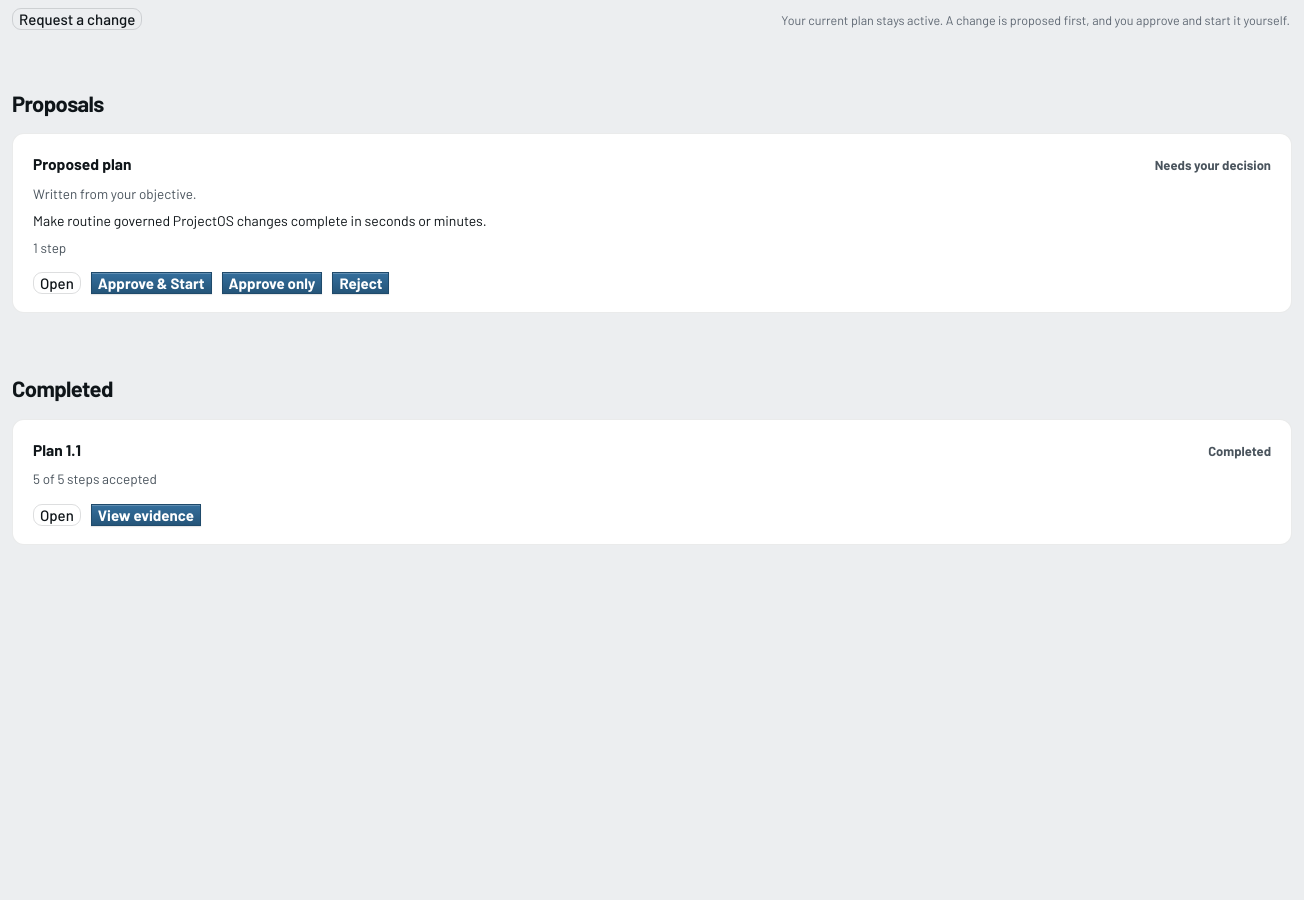
Test: Approve & Start orchestrates the existing verbs, in order, and stops at a refusal › the confirmation says exactly what pressing it does
The width and height of the screenshot is (1304, 900).
Click the button "Approve & Start" at [151, 284], box [91,272,212,294]
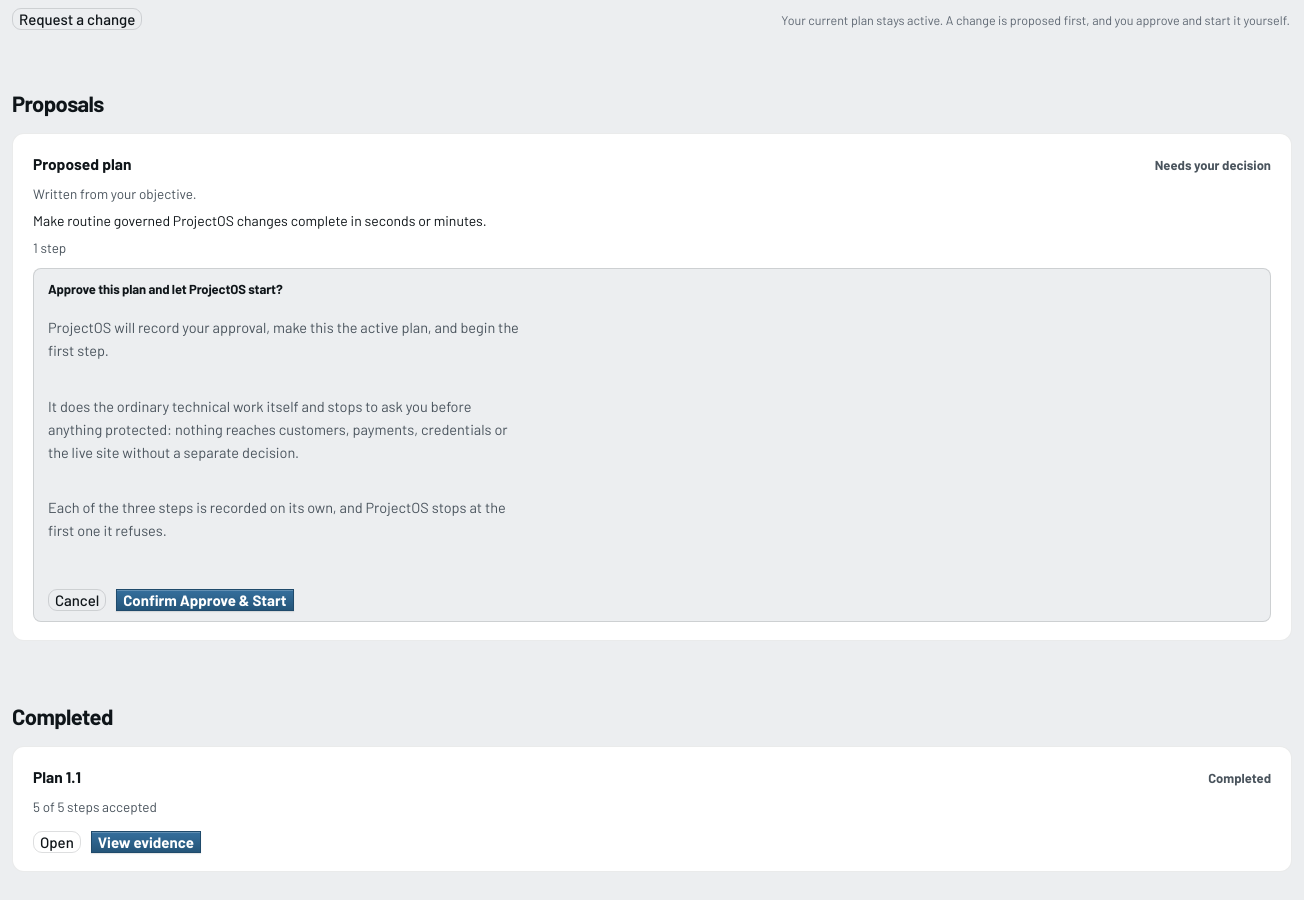
Expected: the text "Approve this plan and let ProjectOS start?" is shown, [48,282,282,298]
Expected: the text "record your approval, make this the active plan, and begin the first step" is shown, [48,318,519,360]
Expected: the text "stops to ask you before anything protected" is shown, [48,397,508,461]
